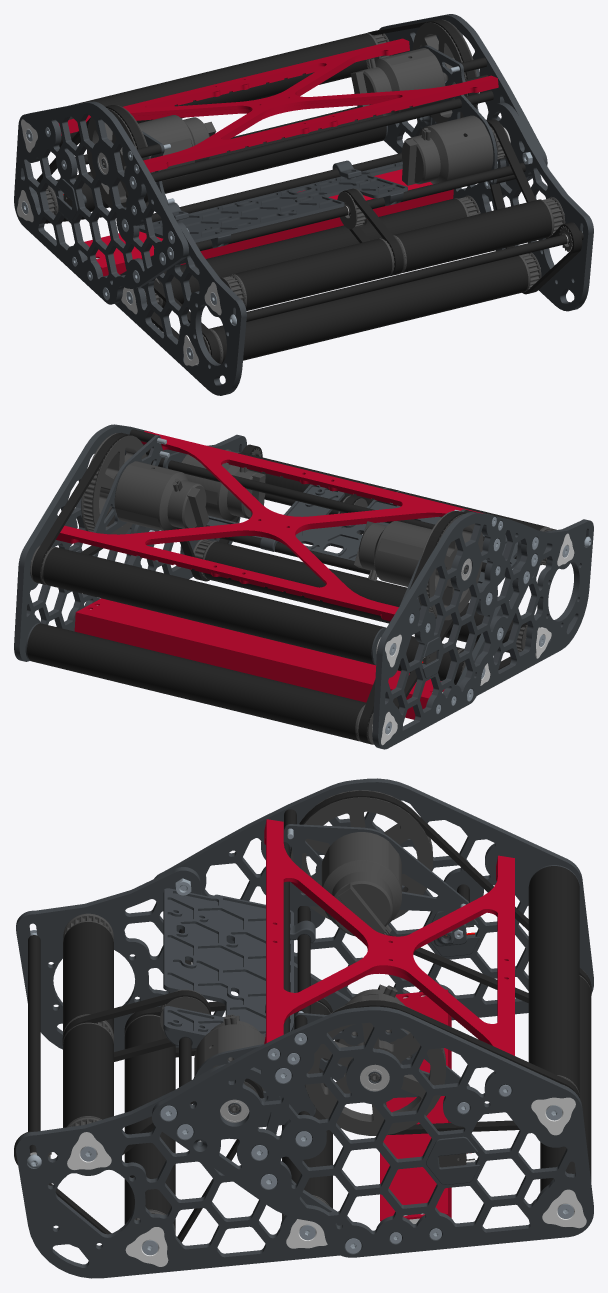
3 renders of one model, top to bottom at view 1: azimuth 30°, elevation 25°; view 2: azimuth 150°, elevation 25°; view 3: azimuth 270°, elevation 25°, orthographic. The views are drawn at different scales.
Visible parts, largest first — view 1: Right Front Shooter Plate, shooter roller cover back (×2), CrossX, split roller cover 2 (×2), Simplified Falcon 500 Motor (217-6515) (×3), shooter roller cover front (×2), right shooter plate 1, left shooter plate 1, Cheesegrater, 3/8" Round Shaft (14.128") (×2), Left Front Shooter Plate, Belt Tensioner 3/8" Round Shaft (15.03") (+12 smaller); view 2: shooter roller cover front (×2), Right Front Shooter Plate, CrossX, Cross Bar, Simplified Falcon 500 Motor (217-6515) (×3), right shooter plate 1, Left Front Shooter Plate, shooter roller cover back (×2), 66T HTD Pulley 10mm Wide (×2), Cheesegrater, 3/8" Round Shaft (14.128") (×2), 100 Tooth x 9mm HTD5 Belt (+6 smaller); view 3: Left Front Shooter Plate, left shooter plate 1, CrossX, Right Front Shooter Plate, shooter roller cover front (×2), Cheesegrater, right shooter plate 1, split roller cover 2 (×2), Simplified Falcon 500 Motor (217-6515) (×3), 66T HTD Pulley 10mm Wide (×2), shooter roller cover back (×2), Cross Bar (+13 smaller).
Boxes of the visible parts, <box> form: Right Front Shooter Plate: <box>14,101,188,304</box>; shooter roller cover back (×2): <box>158,198,528,363</box>; CrossX: <box>58,38,498,172</box>; split roller cover 2 (×2): <box>233,199,551,310</box>; Simplified Falcon 500 Motor (217-6515) (×3): <box>102,48,493,185</box>; shooter roller cover front (×2): <box>53,33,386,211</box>; right shooter plate 1: <box>115,222,246,395</box>; left shooter plate 1: <box>453,102,593,311</box>; Cheesegrater: <box>139,161,407,242</box>; 3/8" Round Shaft (14.128") (×2): <box>139,98,461,225</box>; Left Front Shooter Plate: <box>379,14,547,201</box>; Belt Tensioner 3/8" Round Shaft (15.03"): <box>246,230,583,321</box>; shooter roller cover front (×2): <box>27,547,384,741</box>; Right Front Shooter Plate: <box>372,512,547,749</box>; CrossX: <box>56,431,482,621</box>; Cross Bar: <box>74,598,444,719</box>; Simplified Falcon 500 Motor (217-6515) (×3): <box>114,454,467,586</box>; right shooter plate 1: <box>456,519,593,695</box>; Left Front Shooter Plate: <box>14,424,152,661</box>; shooter roller cover back (×2): <box>204,541,520,680</box>; 66T HTD Pulley 10mm Wide (×2): <box>81,433,483,620</box>; Cheesegrater: <box>207,484,517,588</box>; 3/8" Round Shaft (14.128") (×2): <box>168,460,484,574</box>; 100 Tooth x 9mm HTD5 Belt: <box>32,432,133,584</box>; Left Front Shooter Plate: <box>152,1006,593,1257</box>; left shooter plate 1: <box>16,1064,342,1278</box>; CrossX: <box>264,819,514,1055</box>; Right Front Shooter Plate: <box>154,778,593,1020</box>; shooter roller cover front (×2): <box>528,866,591,1191</box>; Cheesegrater: <box>163,888,293,1038</box>; right shooter plate 1: <box>16,867,350,1051</box>; split roller cover 2 (×2): <box>63,922,113,1127</box>; Simplified Falcon 500 Motor (217-6515) (×3): <box>194,832,411,1113</box>; 66T HTD Pulley 10mm Wide (×2): <box>290,790,445,1135</box>; shooter roller cover back (×2): <box>124,1002,332,1229</box>; Cross Bar: <box>380,989,451,1221</box>.
Size of the model in its own units: 0.4103 by 0.2228 by 0.4306.
